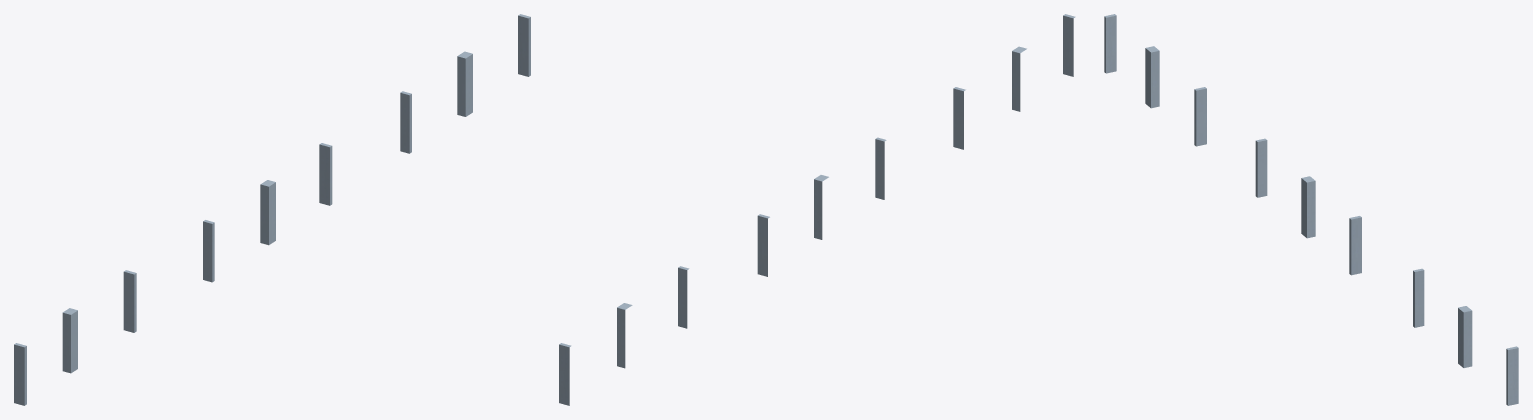
Rendered from myFileName_1090.glb.
3 renders of one model, left to right at view 1: azimuth 30°, elevation 25°; view 2: azimuth 210°, elevation 25°; view 3: azimuth 270°, elevation 25°, orthographic. The views are drawn at different scales.
Size of the model in its own units: 58.9 by 4.56 by 30.7.
1 material, 1 textured.
